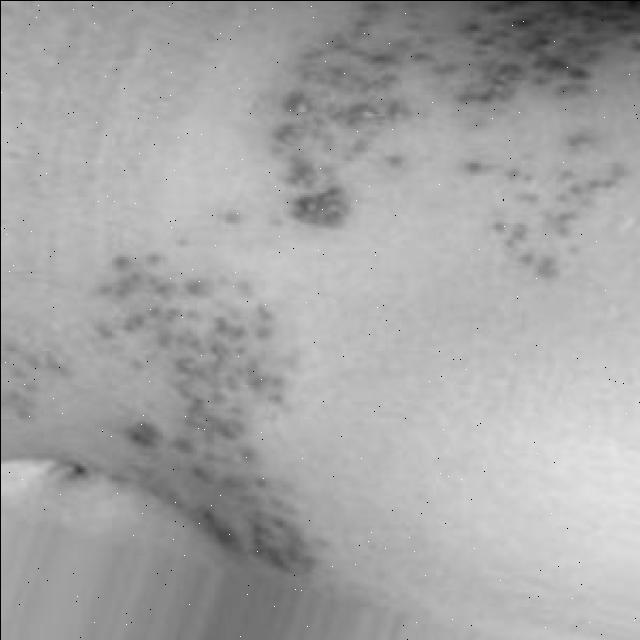Shingles: (0, 250, 324, 587), (265, 0, 640, 282)
